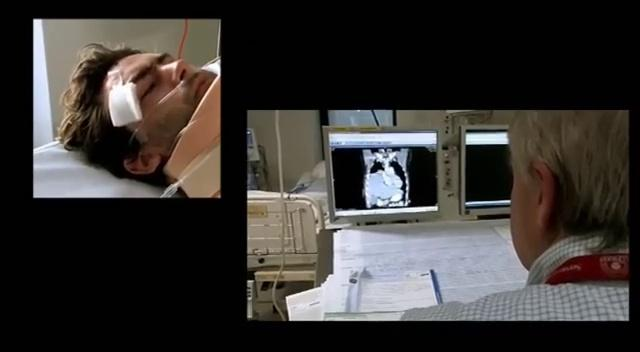patient: (55, 39, 220, 194)
